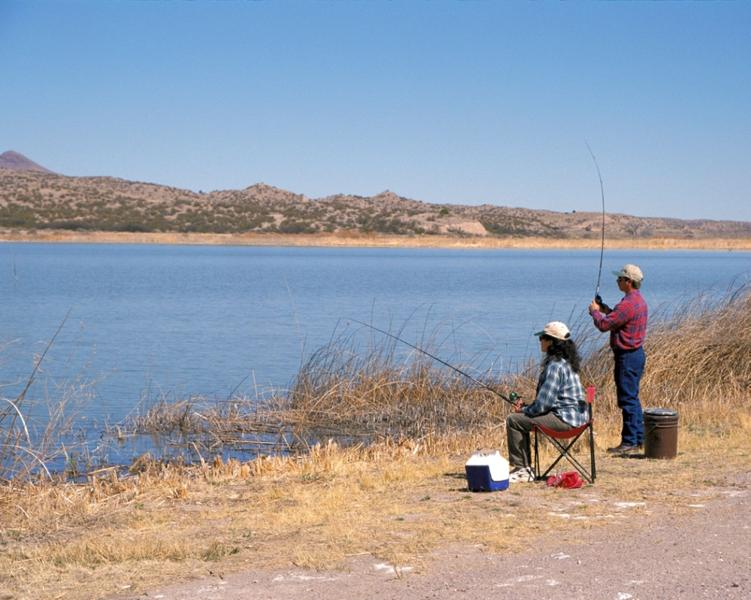person: (506, 323, 589, 482)
